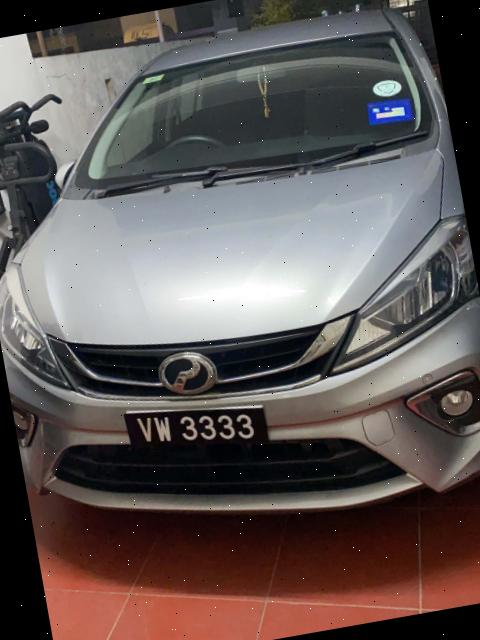License_Plate: (104, 385, 282, 480)
car: (1, 1, 480, 574)
